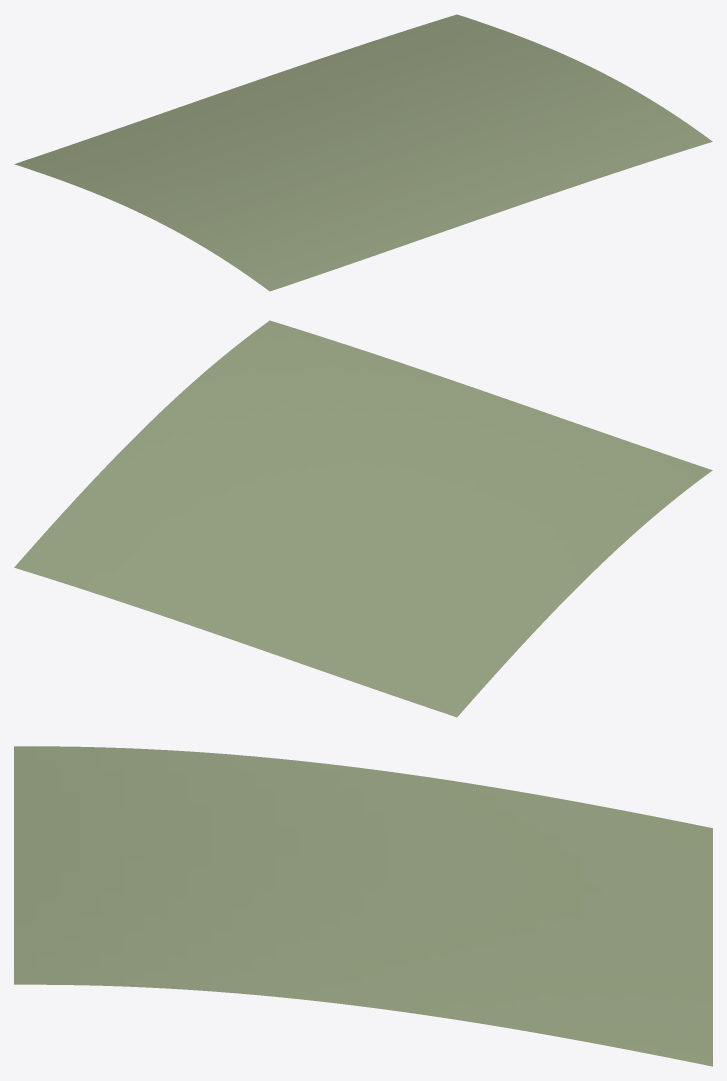
File: valley-14-0.glb
3 views of the same model, one above another, from view 1: azimuth 30°, elevation 25°; view 2: azimuth 150°, elevation 25°; view 3: azimuth 270°, elevation 25° (orthographic). The views are drawn at different scales.
Visible parts, largest first — view 1: valley-14-0; view 2: valley-14-0; view 3: valley-14-0.
Boxes of the visible parts, x1,y1,x2,y2 form: valley-14-0: (14,14,712,291); valley-14-0: (14,320,712,717); valley-14-0: (14,746,712,1066).
Bounding box in the file's own units: 256 × 56.12 × 256.
